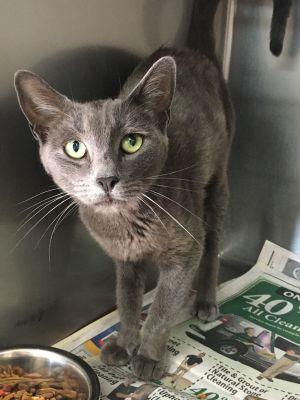rblue: (10, 39, 181, 234)
